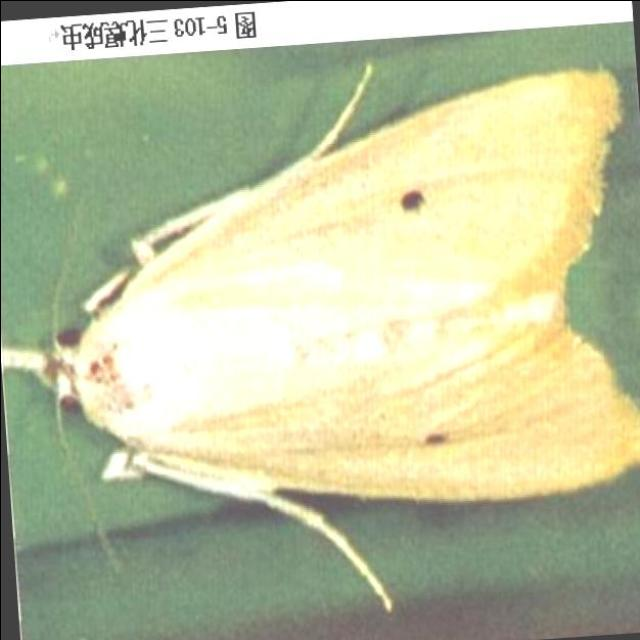stem borer: (6, 64, 640, 593)
